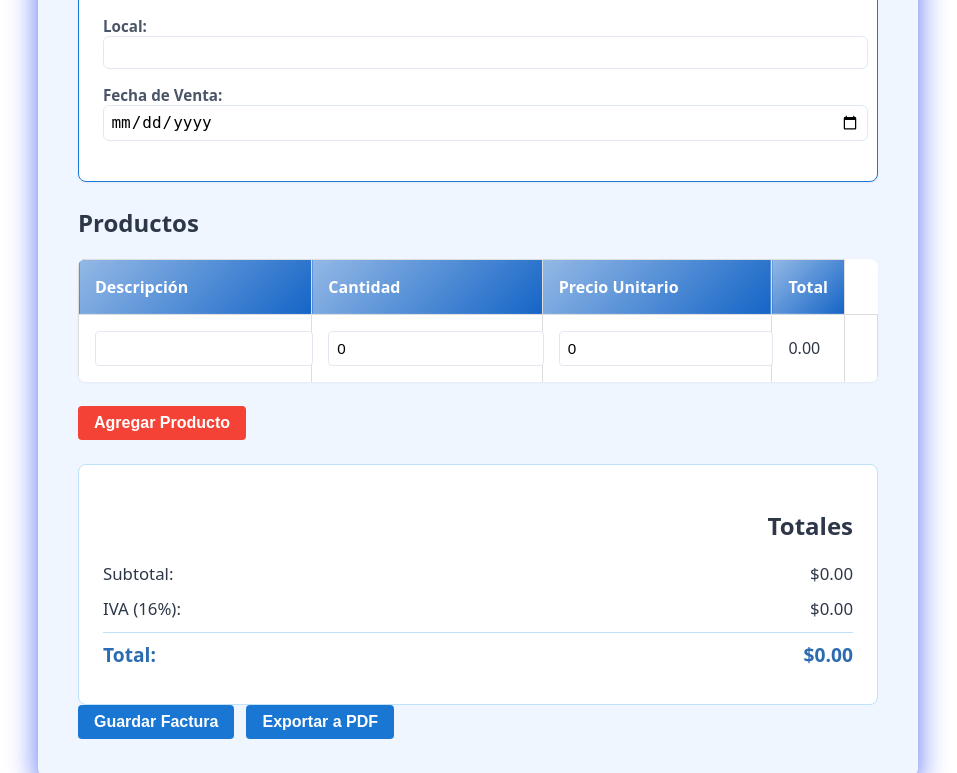
FacturaGenerator Component › agrega una nueva fila de producto
The width and height of the screenshot is (957, 773).
(page scrolled)
Click the button "Agregar Producto".
click(162, 423)  # box x1=78 y1=406 x2=246 y2=440
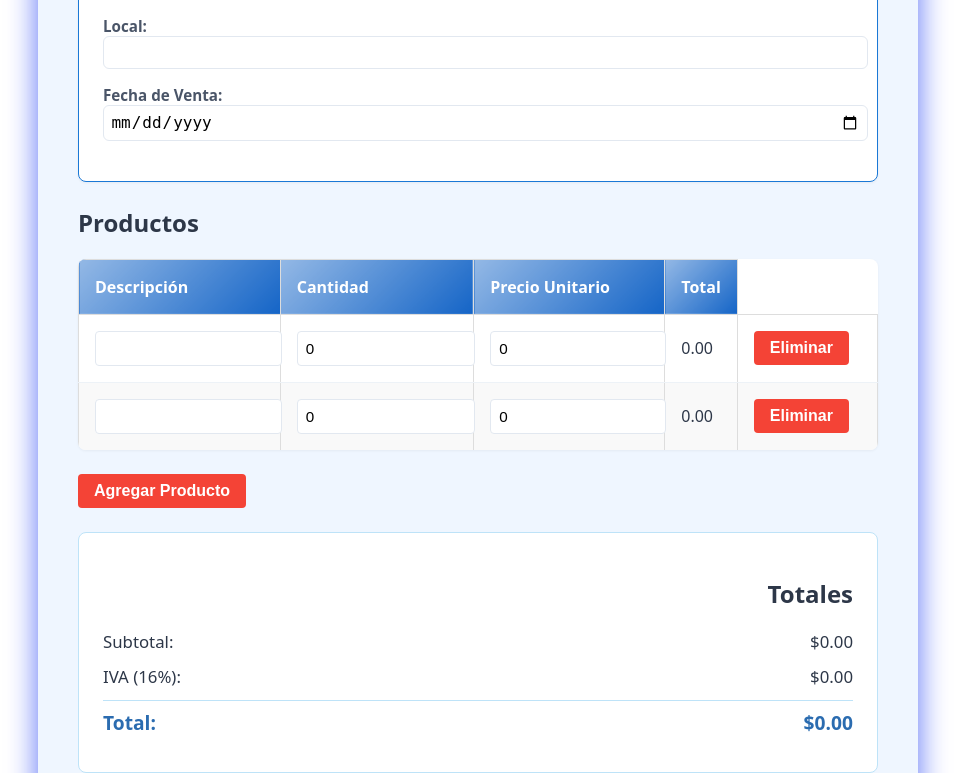
Expected: the number of rows is 3, x1=78 y1=259 x2=878 y2=314; x1=78 y1=314 x2=878 y2=382; x1=78 y1=382 x2=878 y2=450
